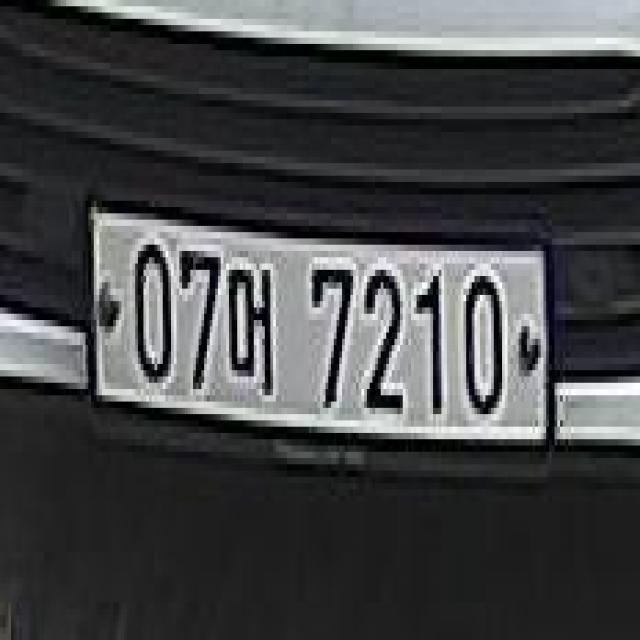illegal_plate: (83, 185, 556, 502)
